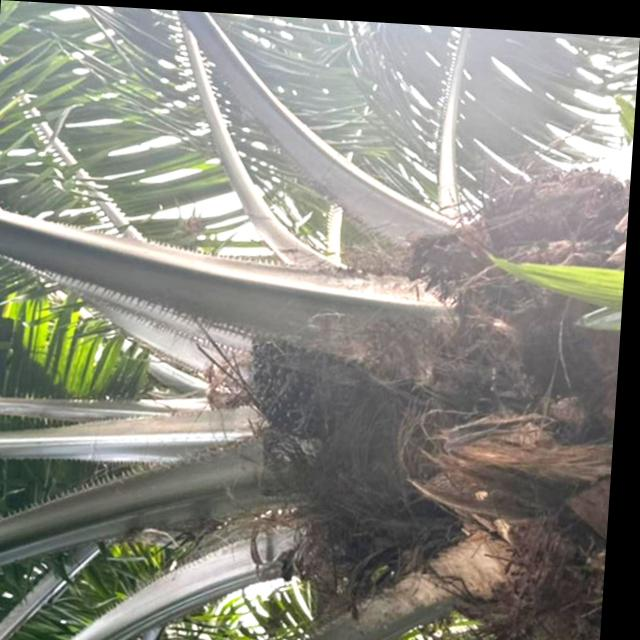unripe: (249, 325, 364, 442)
